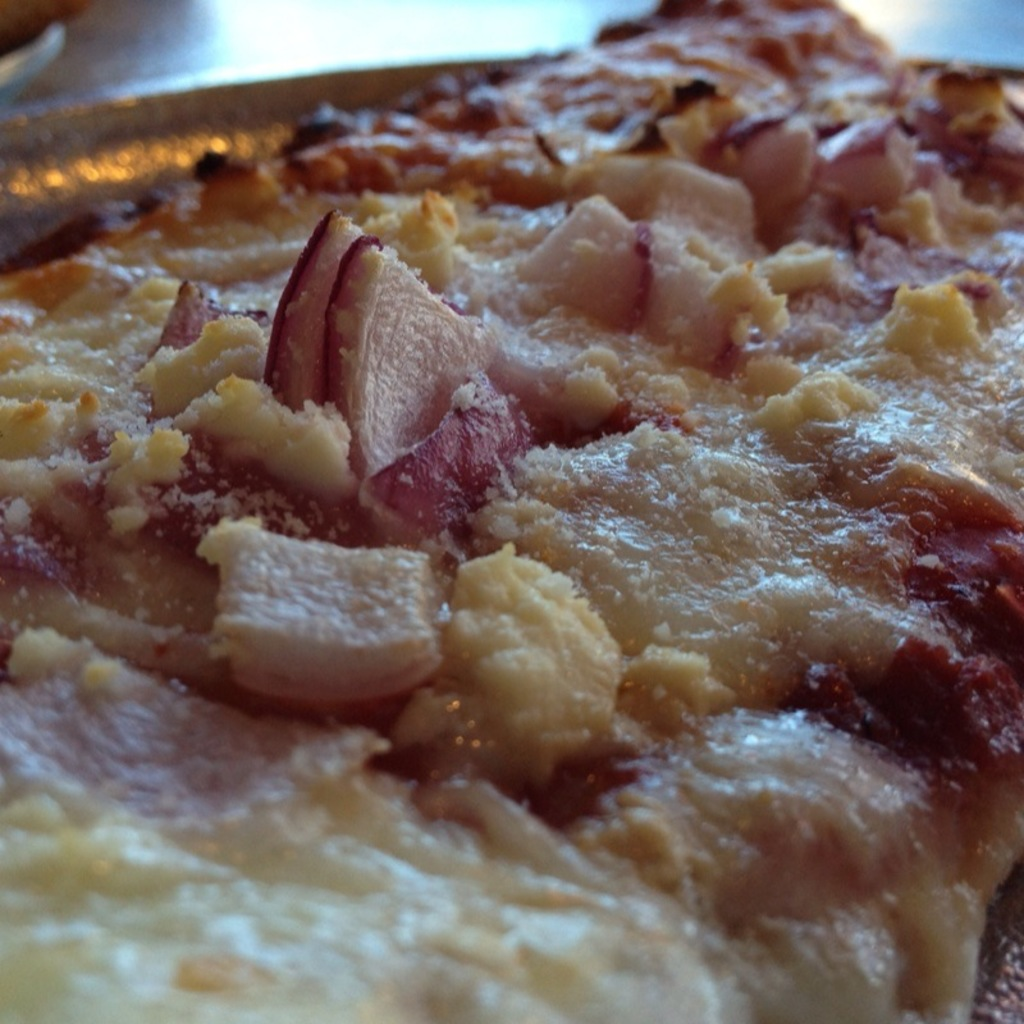Pizza: (5, 52, 1024, 977)
